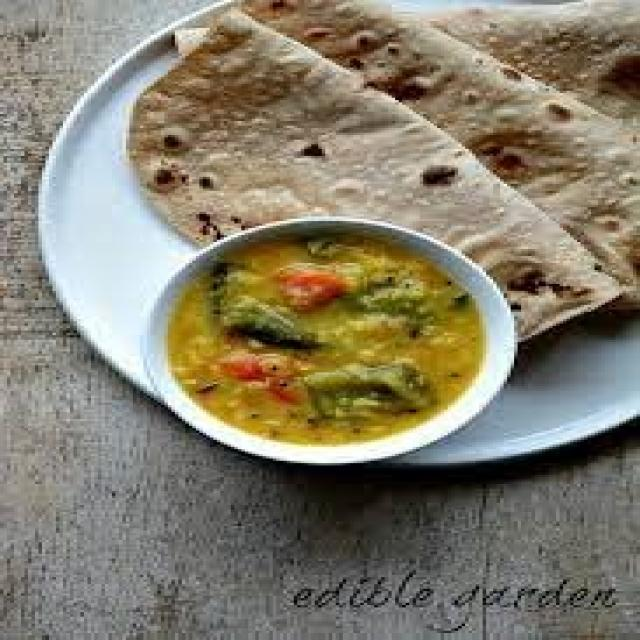Daal: (175, 233, 493, 472)
Roti: (101, 26, 626, 330), (210, 2, 640, 266)
